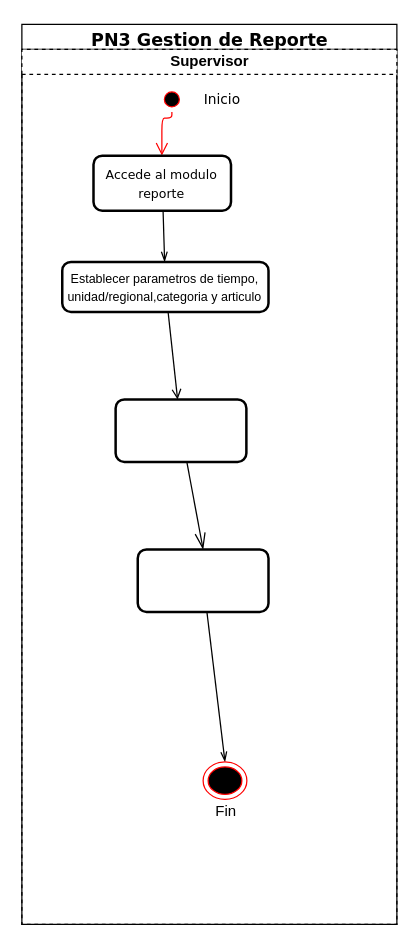
The diagram is 419 pixels wide and 946 high, and some of its shapes have lost their labels. The shapes that lost their labels are listed below. From the top down, each one's centre as x and y in pixels, then its label:
At [180,430]: "Generar reporte".
At [202,580]: "Mostrar Reporte".
